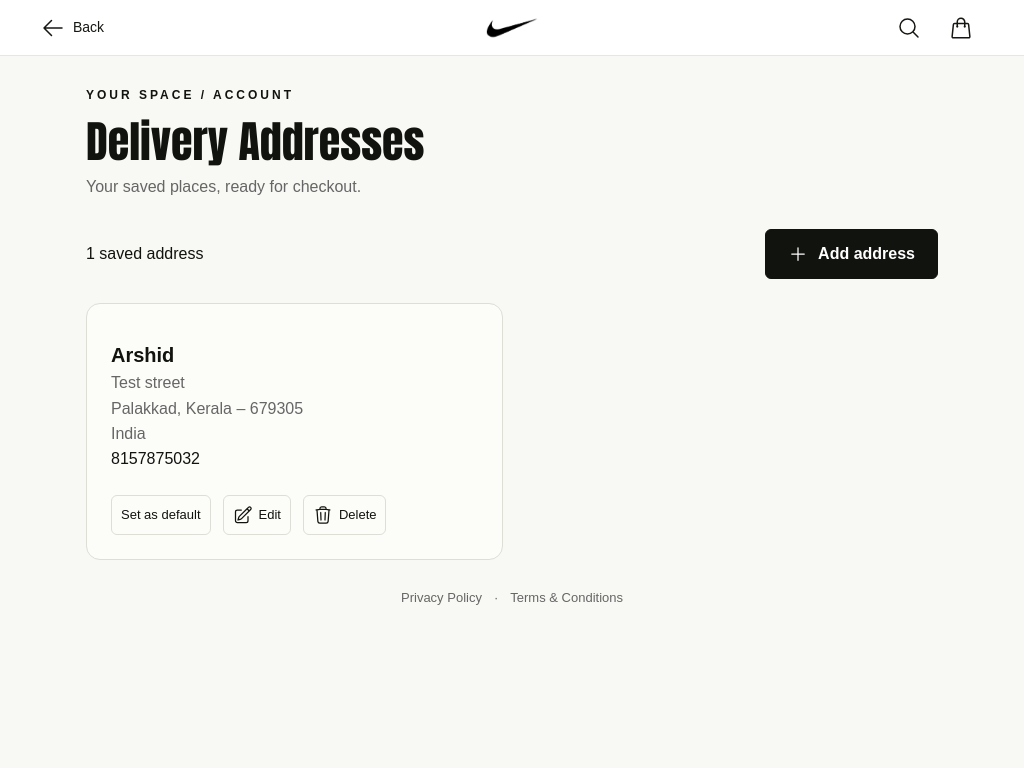
address default update and deletion reuse existing services
Step 1. Click the button "Set as default" → (161, 515), box x1=111 y1=495 x2=210 y2=535
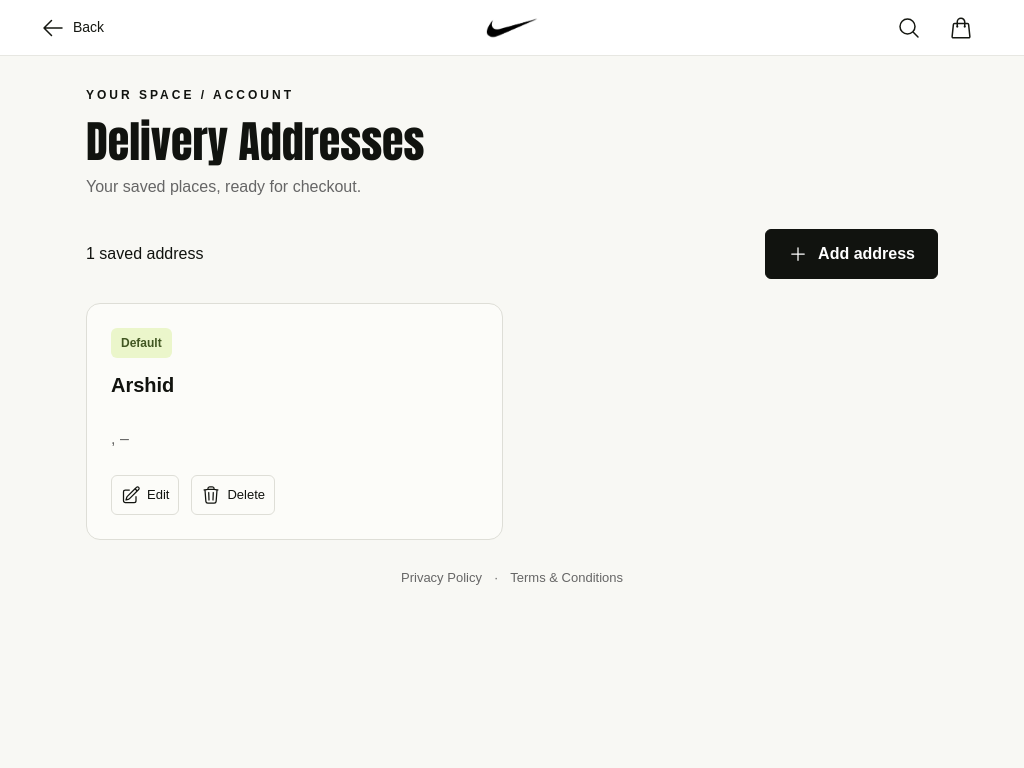
Check: the text with class "settings-tag" reads "Default", box x1=121 y1=336 x2=162 y2=350
Step 2. Click the button "Delete" → (233, 495), box x1=191 y1=475 x2=275 y2=515
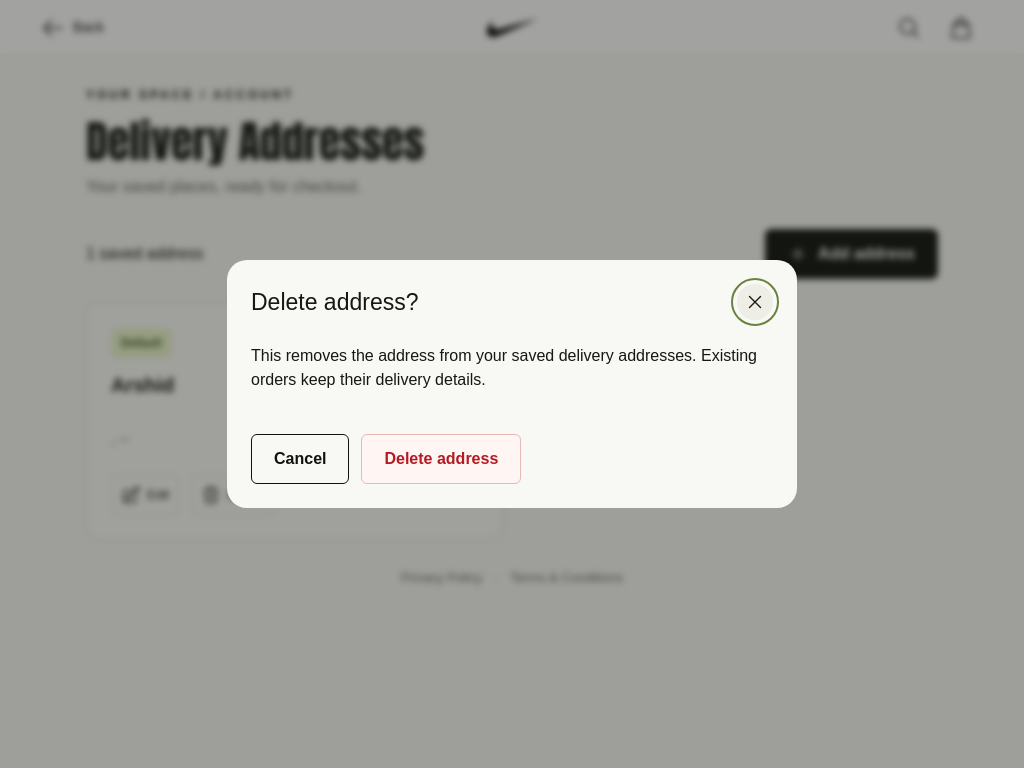
Step 3. Click the button with class "settings-danger" → (441, 459), box x1=362 y1=434 x2=521 y2=484
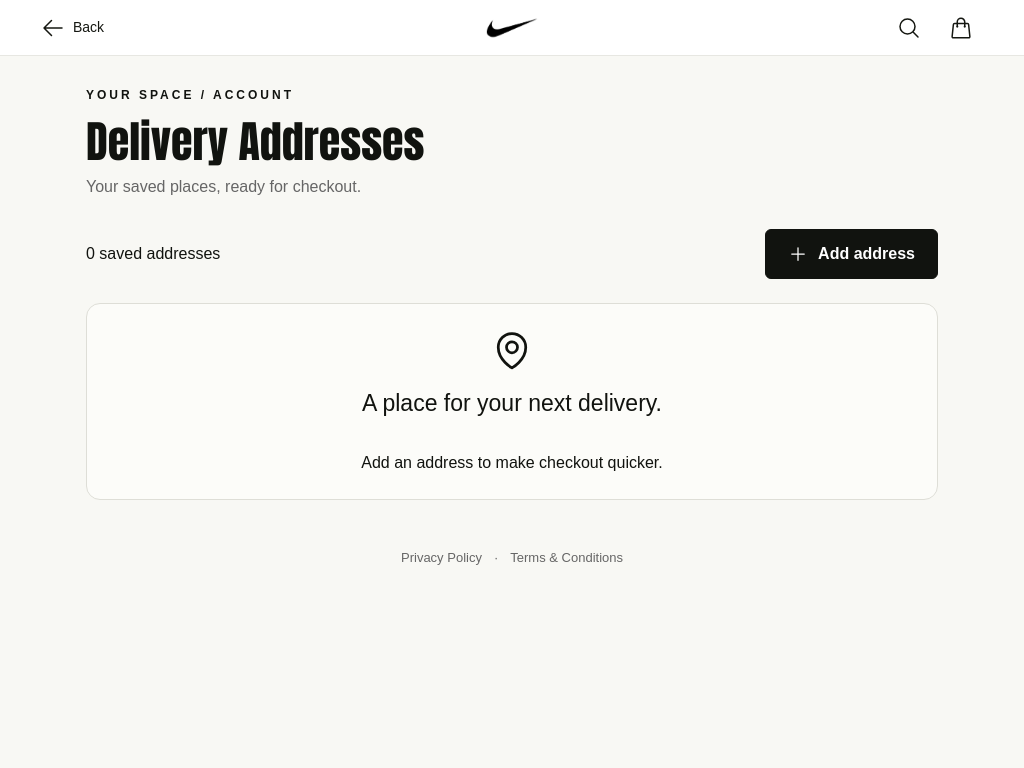
Check: no elements with class "settings-address-card" are shown
